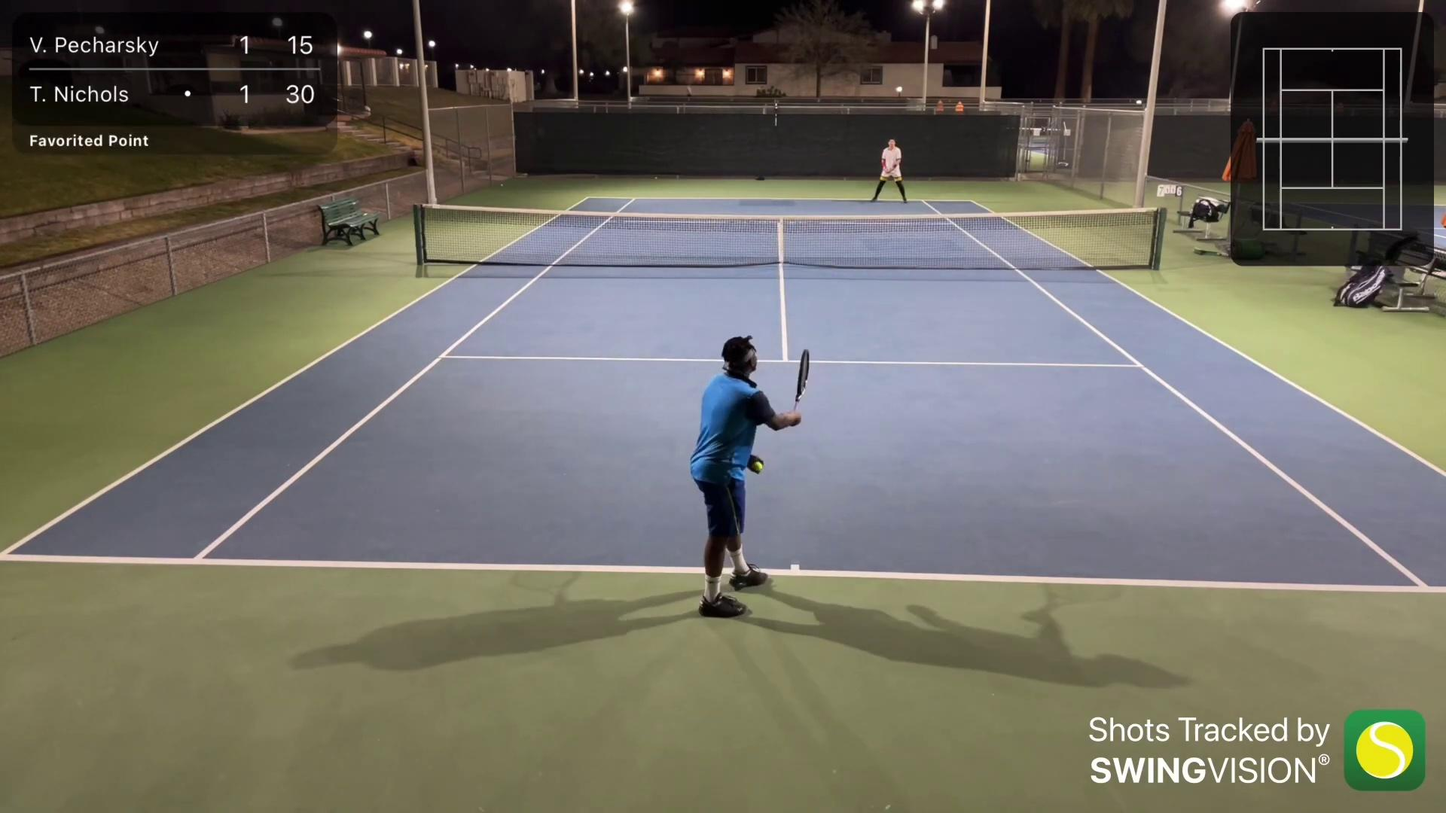ball: (750, 458, 766, 474)
